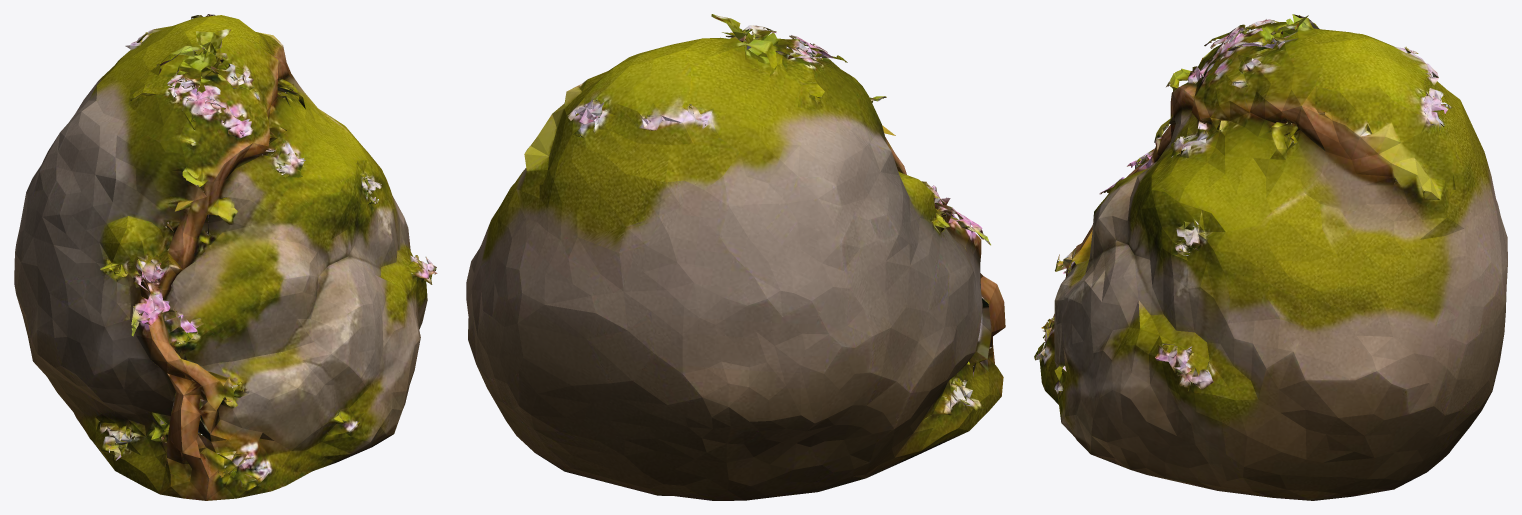
File: fairy_moss_stone_1117.glb
3 views of the same model, side by side, from view 1: azimuth 30°, elevation 25°; view 2: azimuth 150°, elevation 25°; view 3: azimuth 270°, elevation 25° (orthographic). The views are drawn at different scales.
Parts seen in each view (by area): view 1: world; view 2: world; view 3: world.
Part boxes in pixels (x1=…): world: x1=14, y1=14, x2=437, y2=500; world: x1=466, y1=14, x2=1005, y2=500; world: x1=1034, y1=14, x2=1507, y2=500.
Size of the model in its own units: 1.07 by 1 by 1.08.
Materials: 1 (1 with a texture image).
